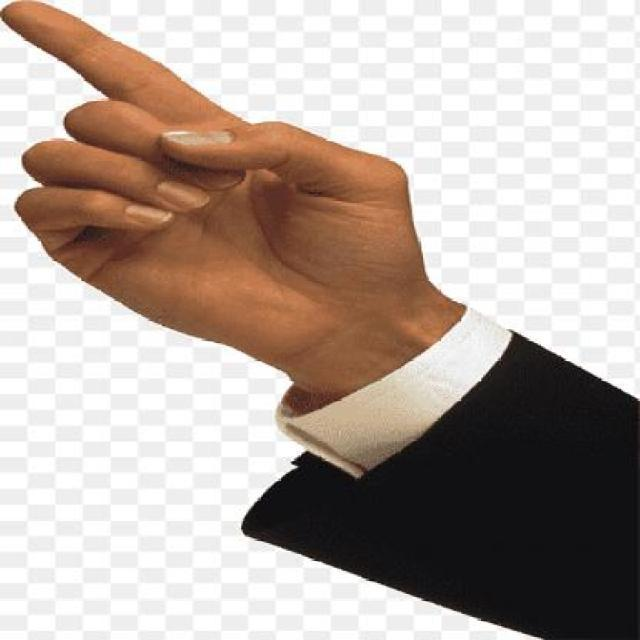no_apron: (0, 0, 388, 371)
